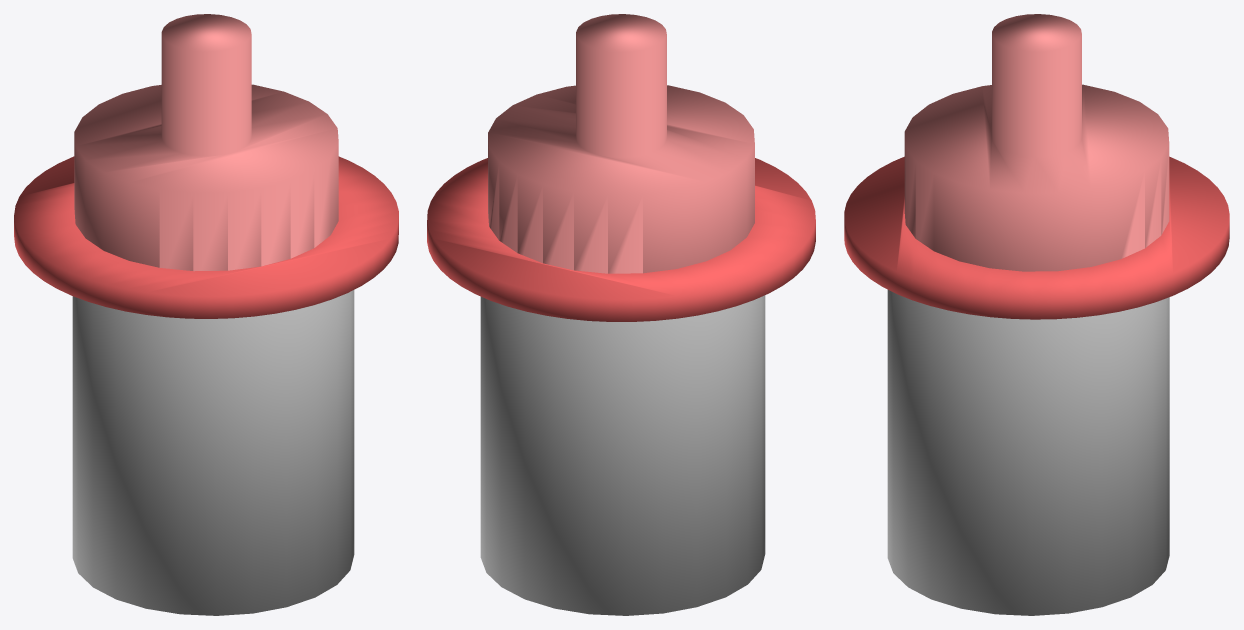
3 renders of one model, left to right at view 1: azimuth 30°, elevation 25°; view 2: azimuth 150°, elevation 25°; view 3: azimuth 270°, elevation 25°, orthographic.
Visible parts, largest first — view 1: mesh2-geometry-0, mesh1-geometry-1, mesh1-geometry-2; view 2: mesh2-geometry-0, mesh1-geometry-1, mesh1-geometry-2; view 3: mesh2-geometry-0, mesh1-geometry-1, mesh1-geometry-2.
Part boxes in pixels (x1=…): mesh2-geometry-0: x1=72, y1=290, x2=354, y2=615; mesh1-geometry-1: x1=74, y1=14, x2=338, y2=271; mesh1-geometry-2: x1=14, y1=156, x2=398, y2=318; mesh2-geometry-0: x1=480, y1=295, x2=765, y2=615; mesh1-geometry-1: x1=488, y1=14, x2=754, y2=273; mesh1-geometry-2: x1=427, y1=158, x2=815, y2=321; mesh2-geometry-0: x1=887, y1=290, x2=1169, y2=615; mesh1-geometry-1: x1=904, y1=14, x2=1169, y2=271; mesh1-geometry-2: x1=844, y1=156, x2=1229, y2=319.
Size of the model in its own units: 0.486 by 0.7263 by 0.486.
